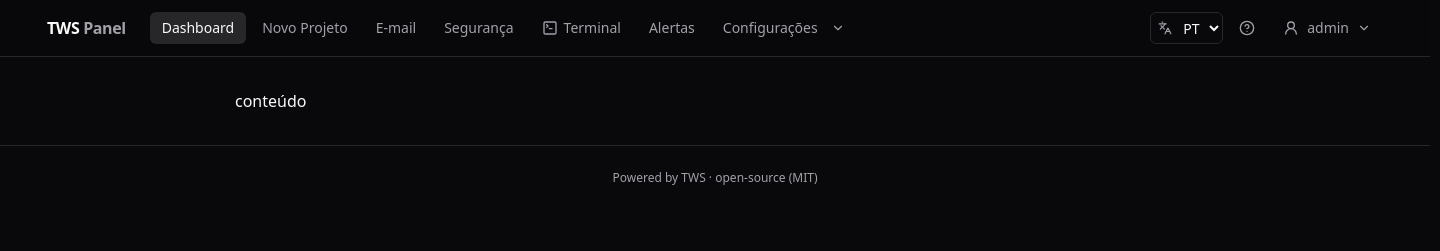
menu do topo com submenu de "Configurações" › abre e fecha por clique, mantendo aria-expanded
Step 1. Click the button named "Submenu de Configurações" → (838, 28), box [824,12,852,44]
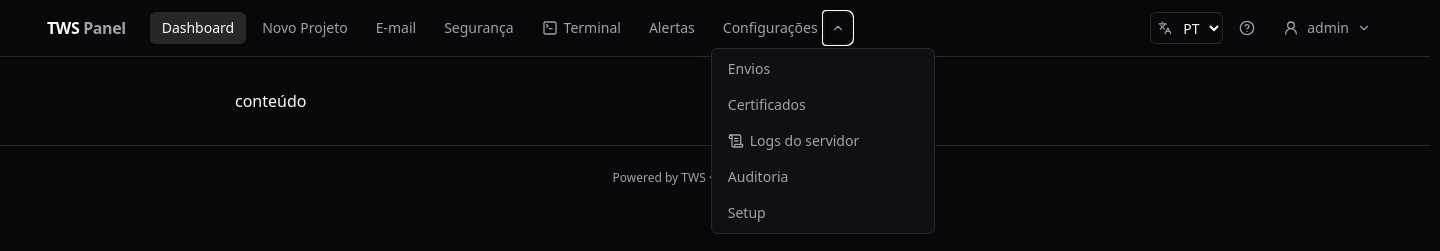
Check: the button named "Submenu de Configurações" is expanded
Check: the link "Envios" is shown, box [728,59,770,78]
Check: the link "Certificados" is shown, box [728,95,806,114]
Step 2. Click the button named "Submenu de Configurações" → (838, 28), box [824,12,852,44]
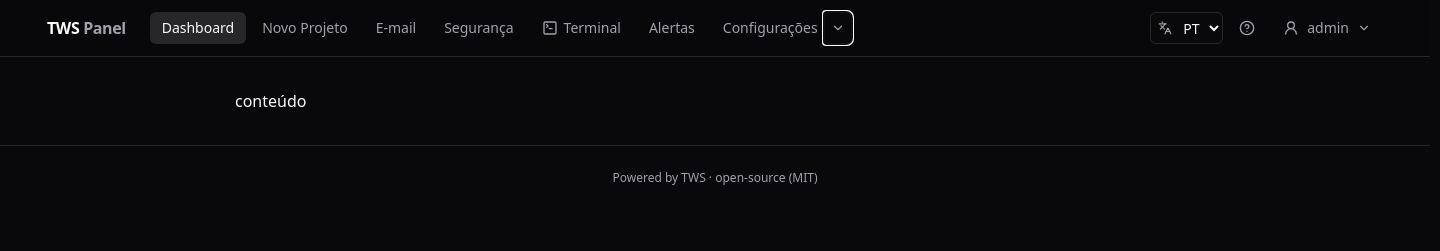
Check: the button named "Submenu de Configurações" is collapsed, box [824,12,852,44]
Check: the link "Envios" is gone
